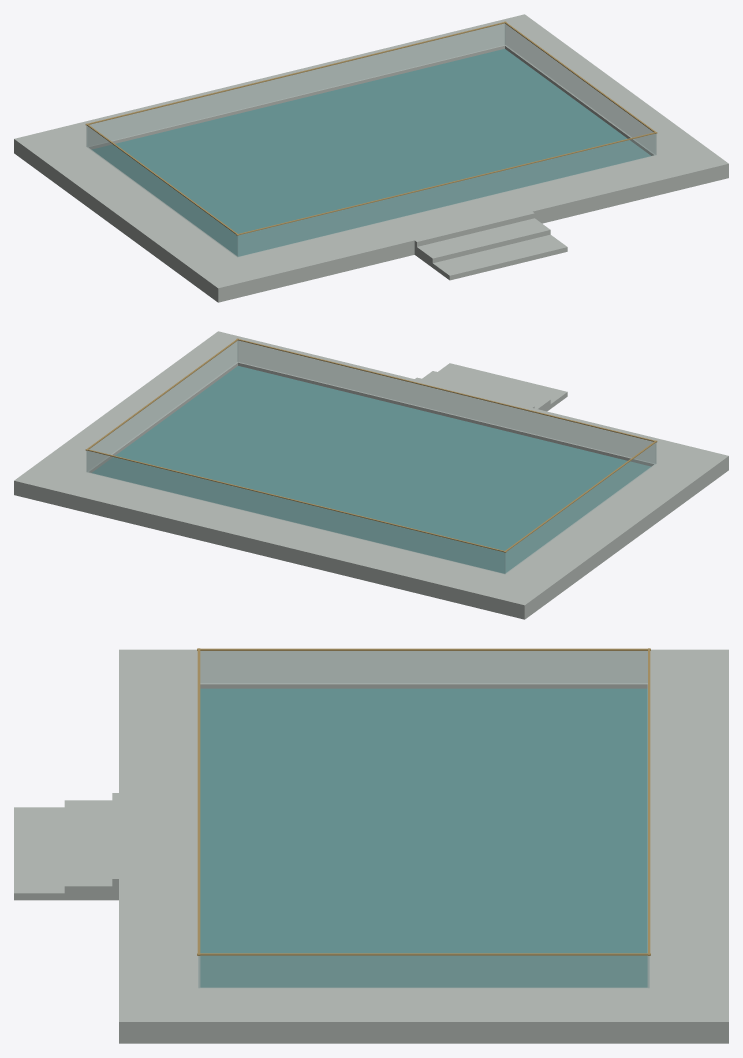
Rendered from pool.glb.
The picture shows the model from 3 angles, top to bottom: view 1: azimuth 30°, elevation 25°; view 2: azimuth 150°, elevation 25°; view 3: azimuth 270°, elevation 25°; orthographic projection. The views are drawn at different scales.
Parts seen in each view (by area): view 1: GC-NK-POOL-water, GC-NK-POOL-stone, GC-NK-POOL-glass, GC-NK-POOL-gold; view 2: GC-NK-POOL-water, GC-NK-POOL-stone, GC-NK-POOL-glass, GC-NK-POOL-gold; view 3: GC-NK-POOL-water, GC-NK-POOL-stone, GC-NK-POOL-glass, GC-NK-POOL-gold.
Boxes of the visible parts, box(x1,y1,x2,y2) form: GC-NK-POOL-water: box(92, 49, 650, 256); GC-NK-POOL-stone: box(14, 14, 728, 302); GC-NK-POOL-glass: box(86, 23, 656, 257); GC-NK-POOL-gold: box(85, 21, 657, 235); GC-NK-POOL-water: box(92, 366, 650, 573); GC-NK-POOL-stone: box(14, 331, 728, 619); GC-NK-POOL-glass: box(86, 340, 656, 574); GC-NK-POOL-gold: box(85, 338, 657, 552); GC-NK-POOL-water: box(200, 688, 647, 987); GC-NK-POOL-stone: box(14, 649, 728, 1043); GC-NK-POOL-glass: box(198, 651, 649, 988); GC-NK-POOL-gold: box(197, 648, 650, 955).
Bounding box in the file's own units: 26 × 1.82 × 21.1.
